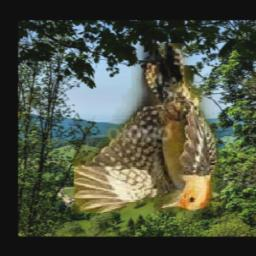Woodpecker: (73, 44, 218, 214)
